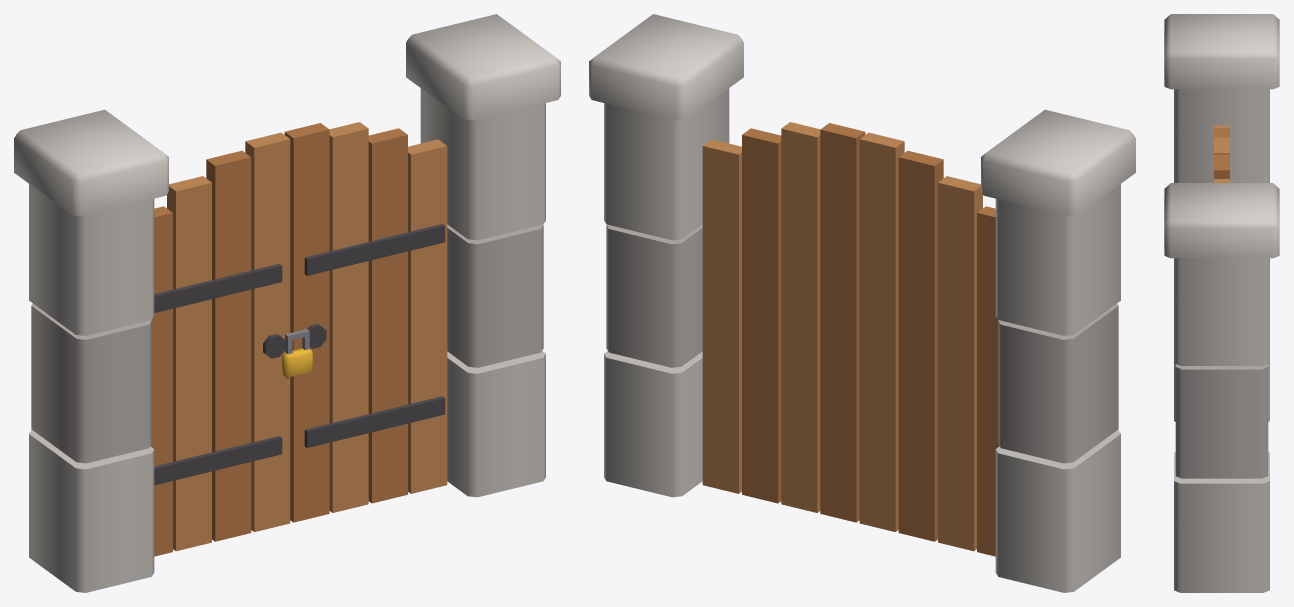
File: gate_zoo_closed.glb
The picture shows the model from 3 angles, left to right: view 1: azimuth 30°, elevation 25°; view 2: azimuth 150°, elevation 25°; view 3: azimuth 270°, elevation 25°; orthographic projection. The views are drawn at different scales.
Parts seen in each view (by area): view 1: gate_zoo_closed; view 2: gate_zoo_closed; view 3: gate_zoo_closed.
Part boxes in pixels (x1,y1,x2,y2): gate_zoo_closed: (14, 14, 560, 592); gate_zoo_closed: (589, 14, 1135, 592); gate_zoo_closed: (1164, 14, 1279, 592).
Bounding box in the file's own units: 3.12 × 2.6 × 0.72.
Materials: 1 (1 with a texture image).
